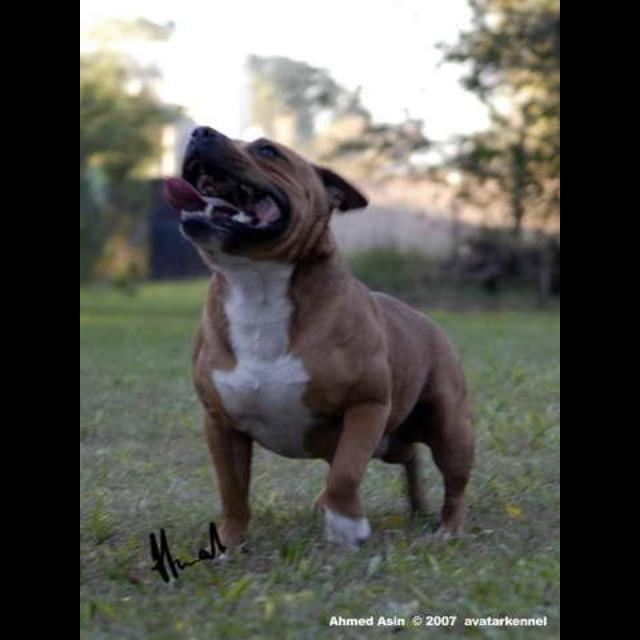staffford: (164, 126, 478, 563)
